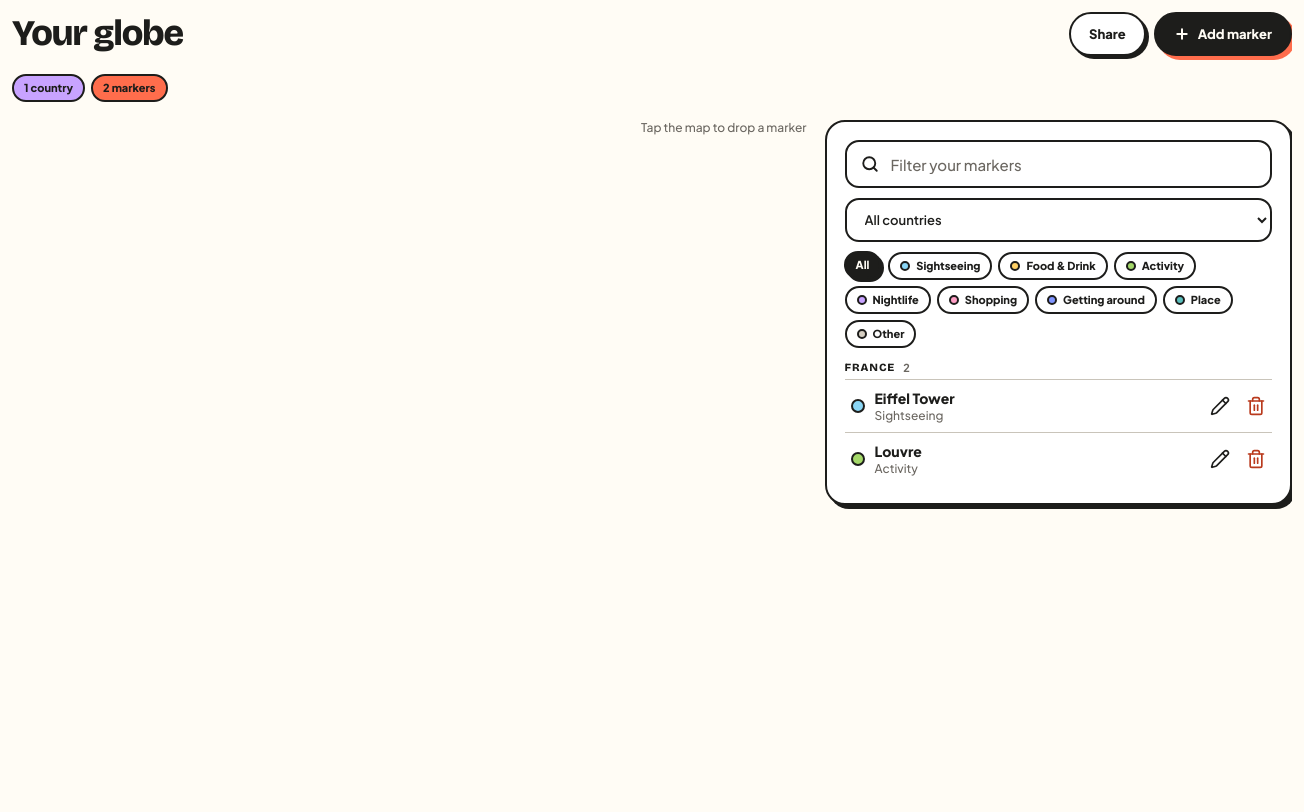
Scenario: GlobeView — filter box can't be mistaken for adding a place (spec 2026-10-05 §H) › a category with no matches and no query says 'Nothing matches' with no Add button
Click the button "Food & Drink".
click(1053, 266)  # box [998,252,1108,280]
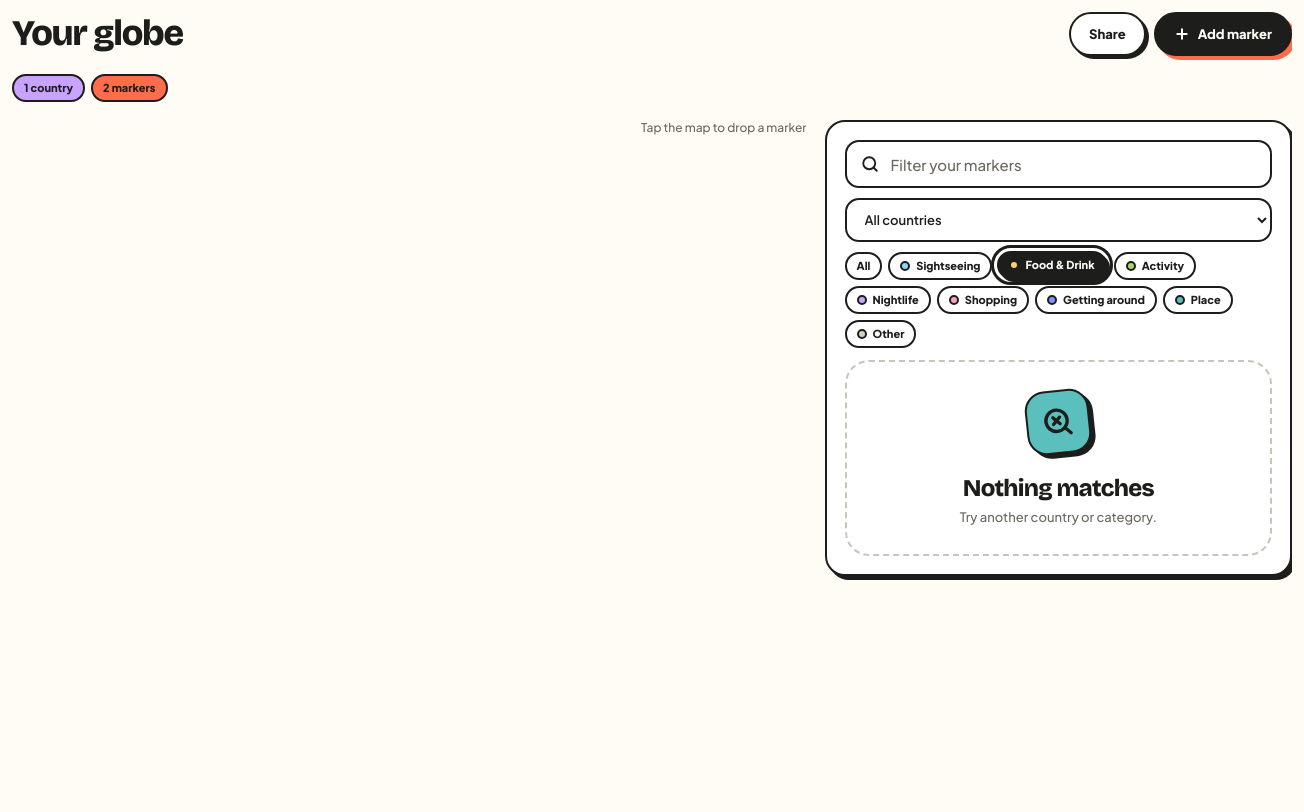
Expected: the heading "Nothing matches" is shown, [960,472,1157,504]
